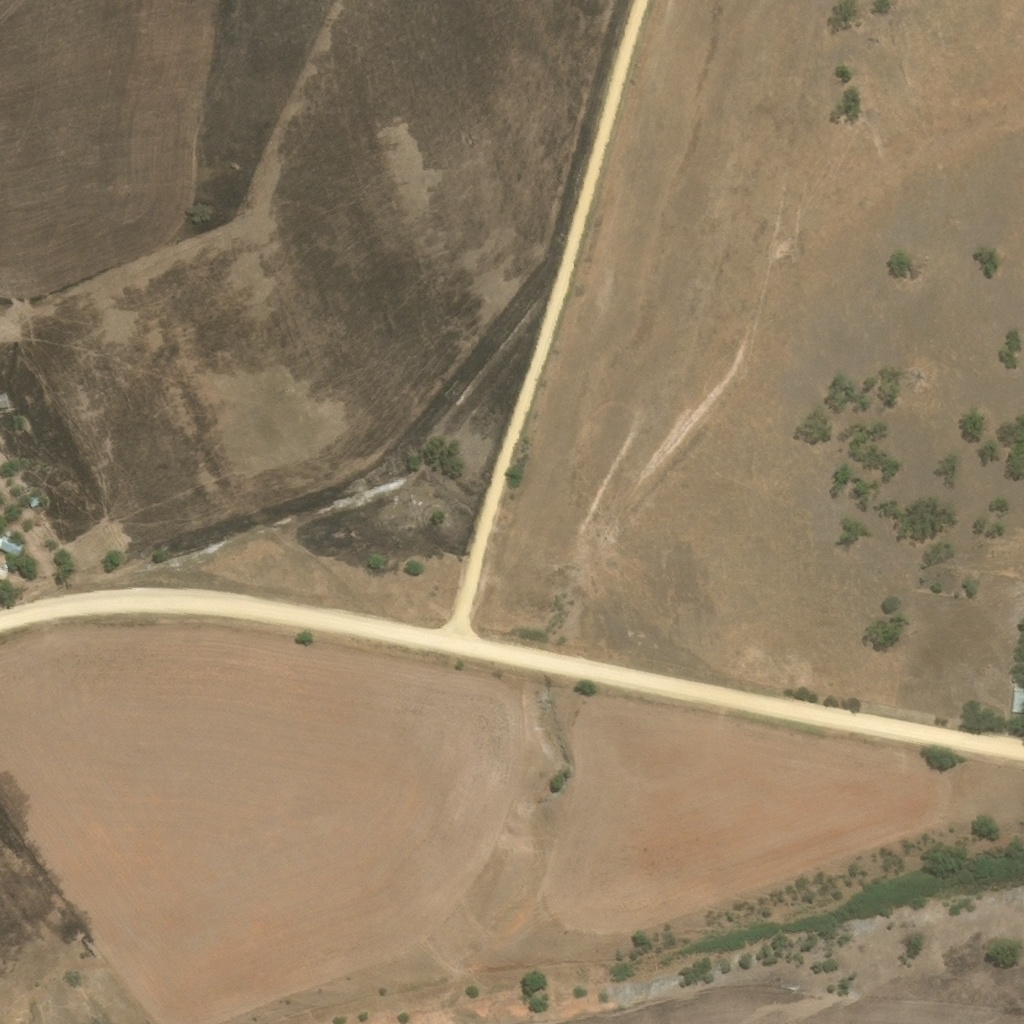0 no-damage: (26, 496, 39, 508), (0, 393, 6, 409)
4 un-classified: (1012, 686, 1023, 712), (2, 564, 7, 569)
